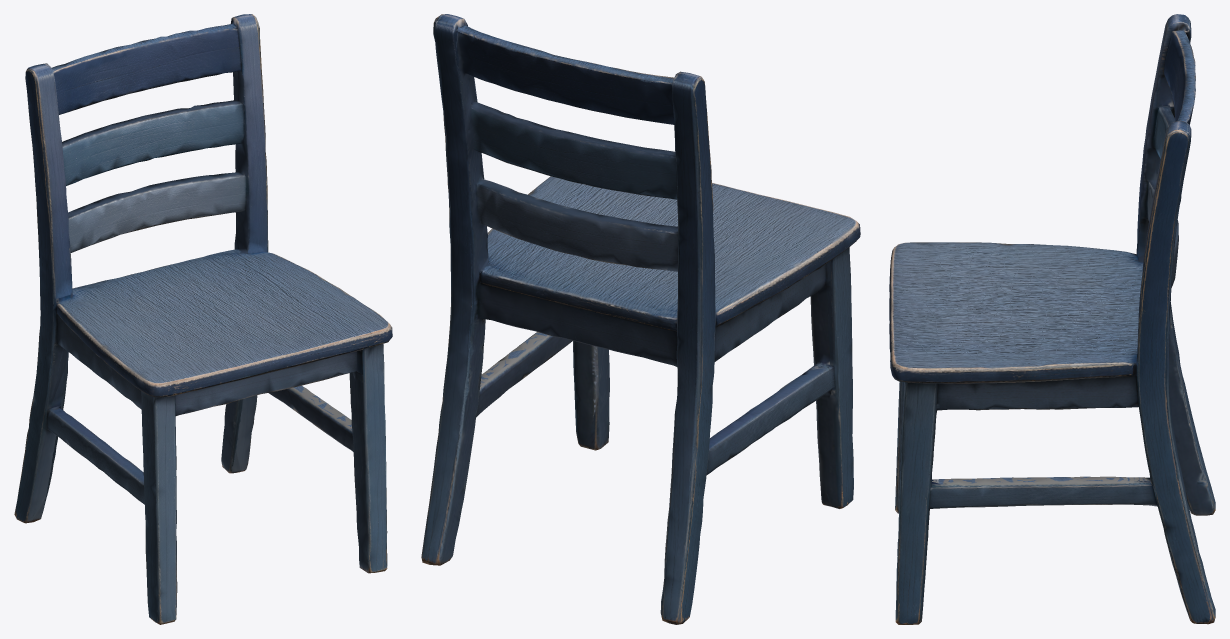
File: VAR_Bedroom_WoodChair.fbx
3 renders of one model, left to right at view 1: azimuth 30°, elevation 25°; view 2: azimuth 150°, elevation 25°; view 3: azimuth 270°, elevation 25°, orthographic. The views are drawn at different scales.
Parts seen in each view (by area): view 1: texture_mapping; view 2: texture_mapping; view 3: texture_mapping.
Part boxes in pixels (x1,y1,x2,y2): texture_mapping: (14, 14, 392, 624); texture_mapping: (421, 14, 860, 624); texture_mapping: (889, 14, 1215, 624).
Bounding box in the file's own units: 0.56 × 0.5992 × 1.
1 material, 1 textured.
